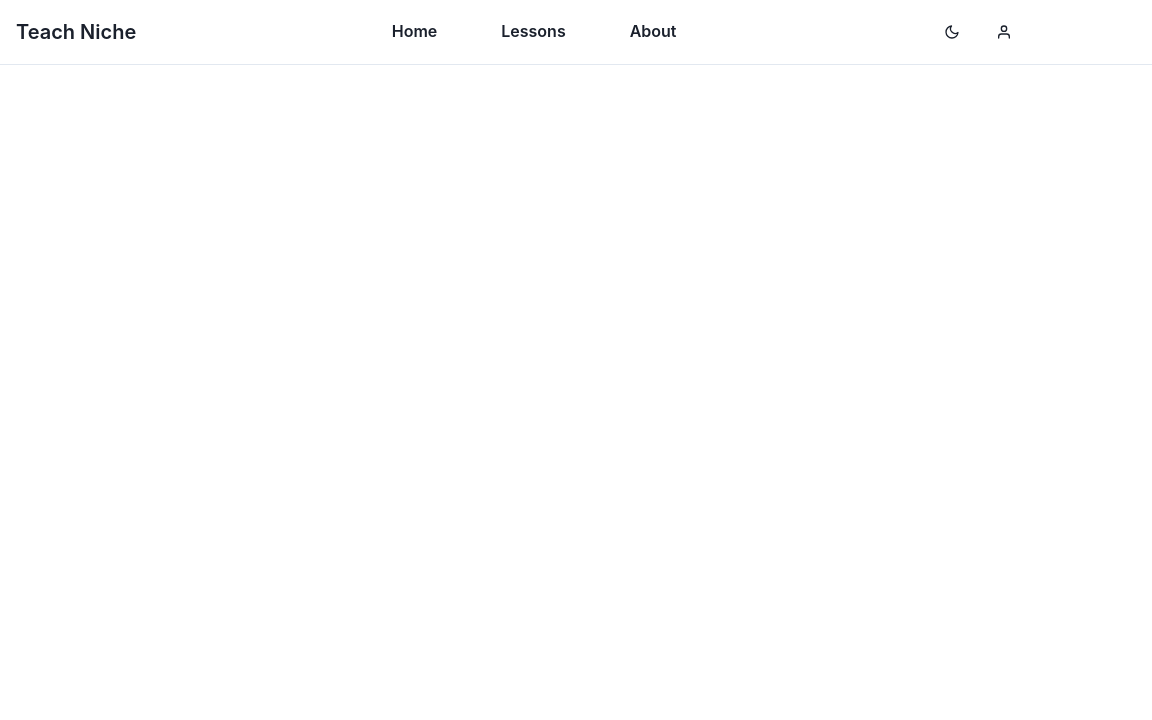
Test case: Header Component › toggles dark mode
Step 1. Click the button named "Toggle dark" → (952,32), box [932,12,972,52]
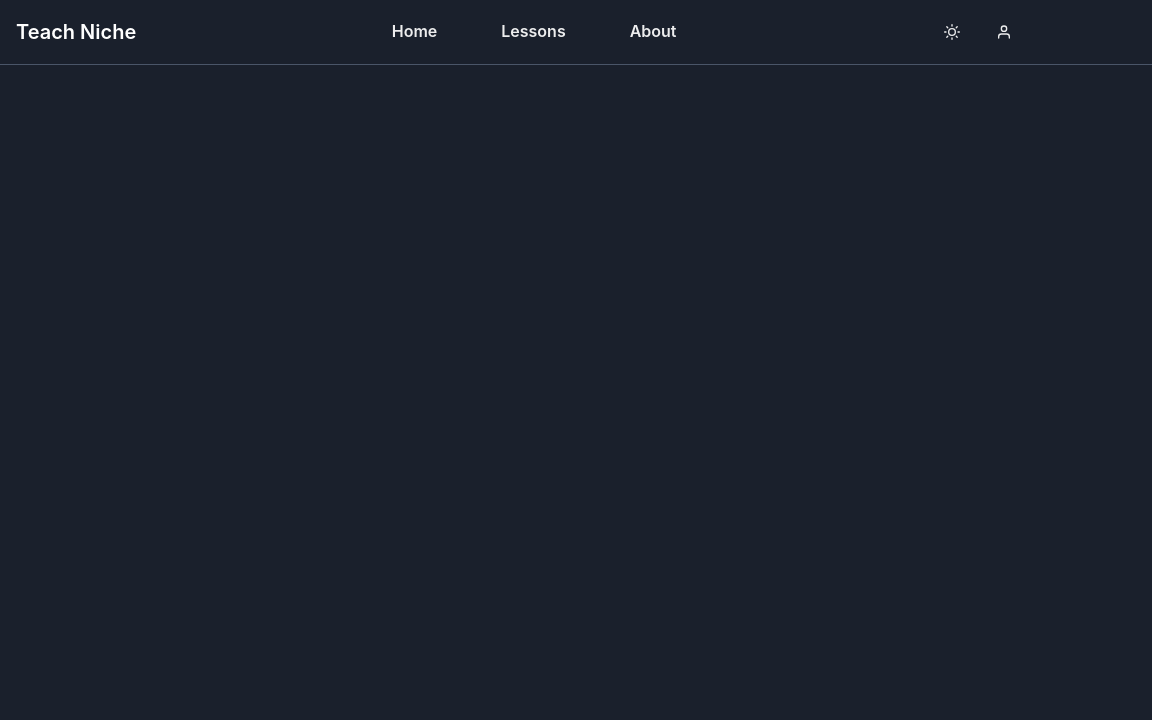
Expected: the button named "Toggle light" is shown, [932,12,972,52]
